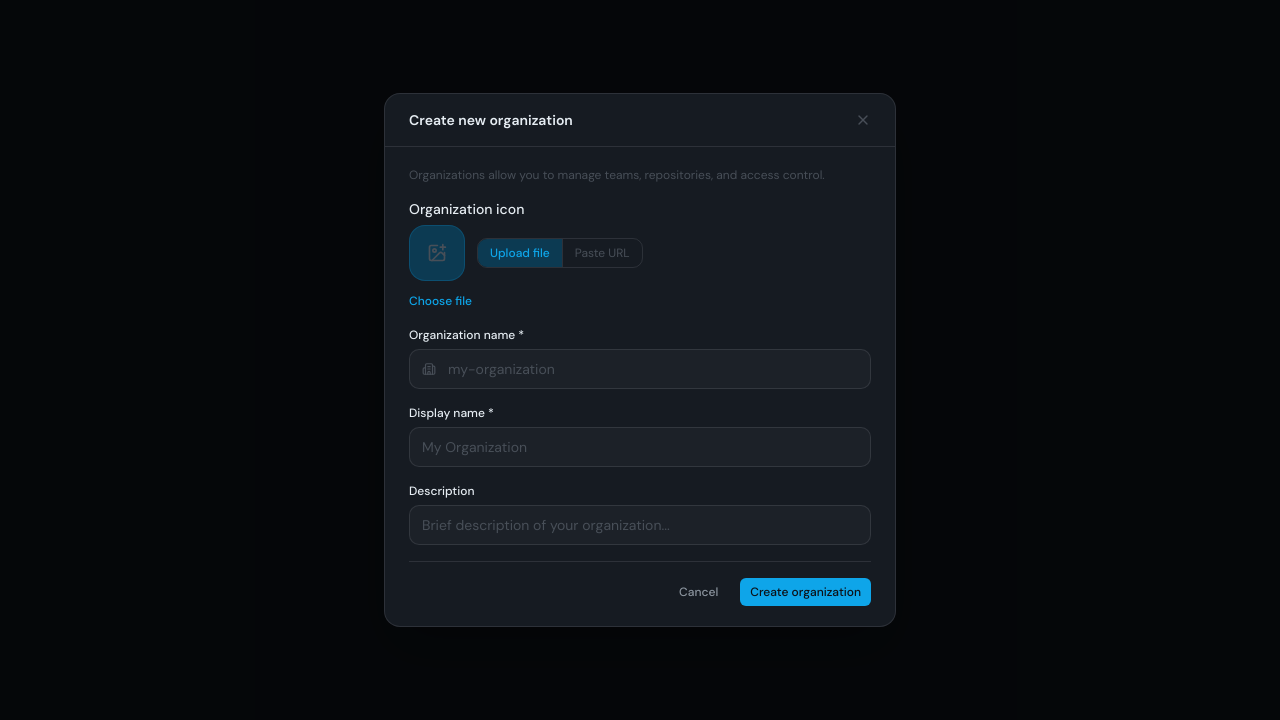
Test case: CreateOrganizationModal › form validation: name › shows error when name has invalid characters
This screenshot has width=1280, height=720.
In the field labelled "Organization name *": (653, 369) x1=436 y1=350 x2=870 y2=388, type "My Org!"
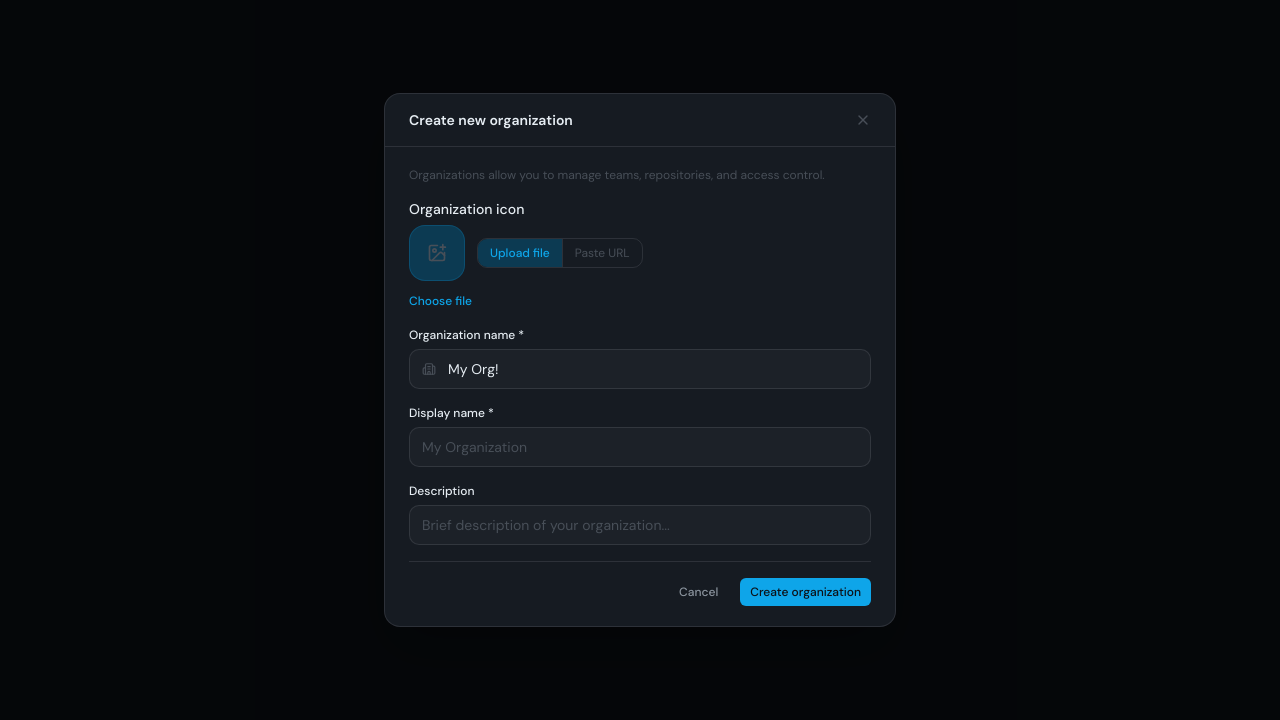
In the field labelled "Display name *": (640, 447) x1=410 y1=428 x2=870 y2=466, type "My Org"
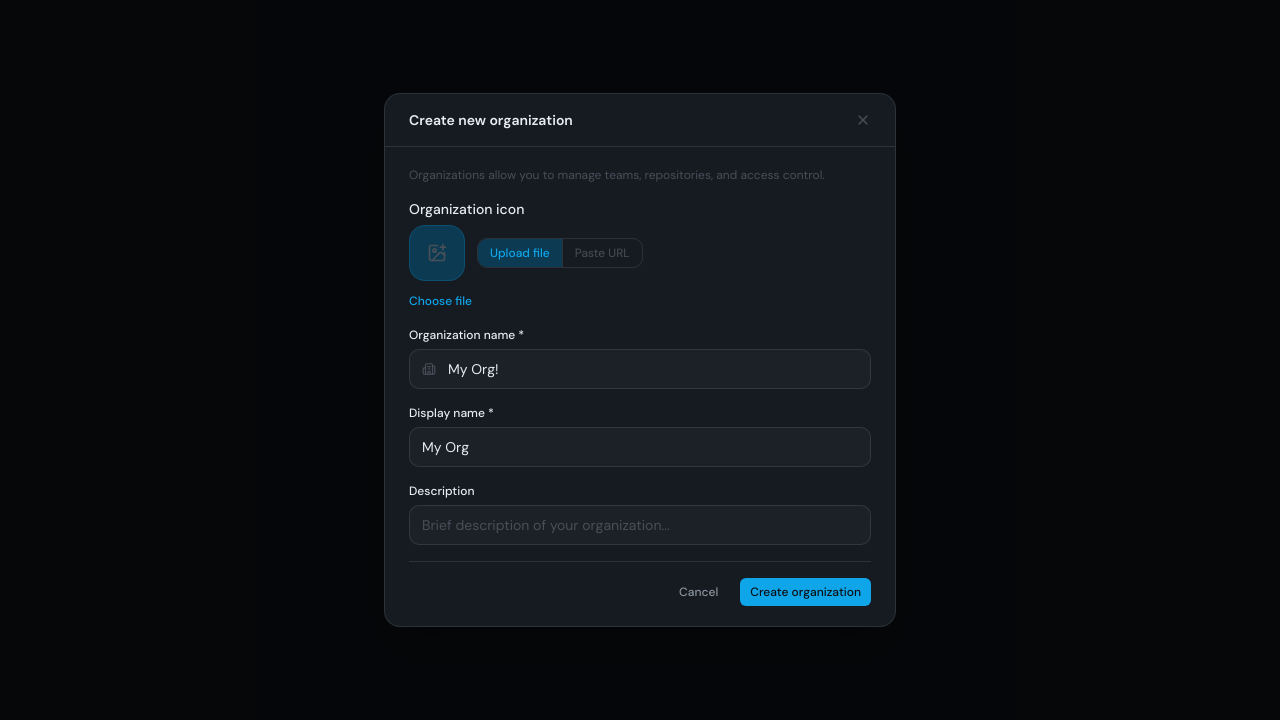
Click the button "Create organization": click(806, 592) x1=740 y1=578 x2=871 y2=606
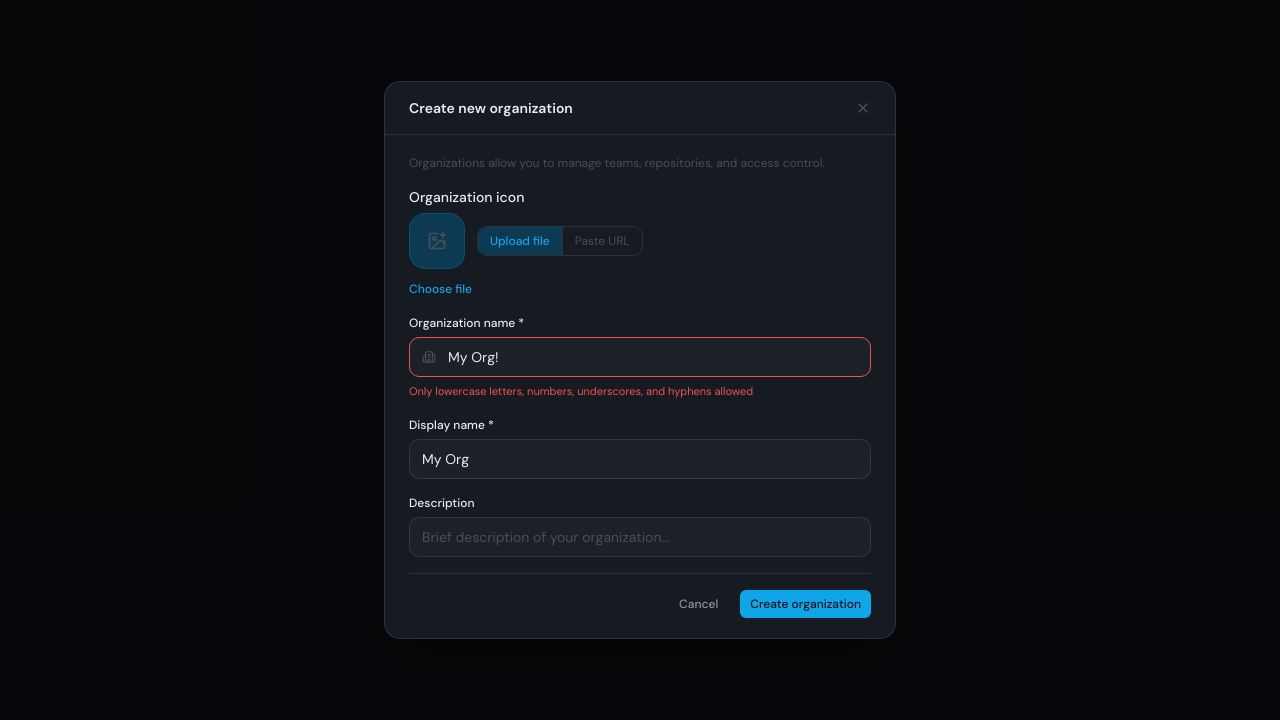
Expected: the text "Only lowercase letters" is shown, x1=409 y1=384 x2=753 y2=398
